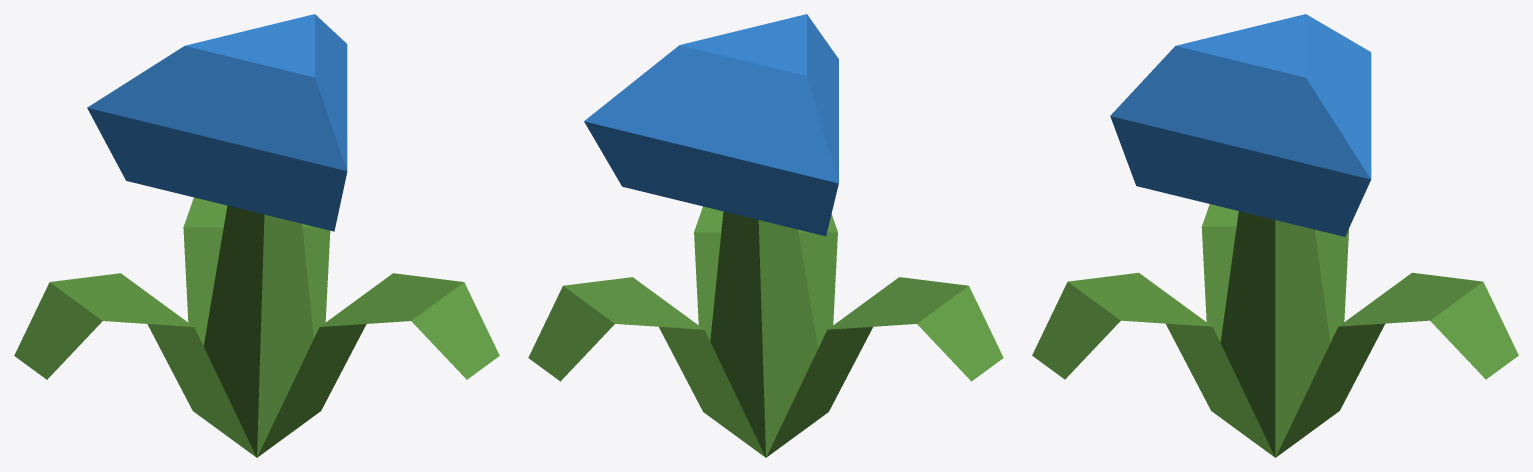
The model's file is flower-6.glb.
3 views of the same model, side by side, from view 1: azimuth 30°, elevation 25°; view 2: azimuth 150°, elevation 25°; view 3: azimuth 270°, elevation 25° (orthographic). The views are drawn at different scales.
Visible parts, largest first — view 1: flower_purpleB; view 2: flower_purpleB; view 3: flower_purpleB.
Boxes of the visible parts, x1,y1,x2,y2 form: flower_purpleB: [14, 14, 499, 457]; flower_purpleB: [528, 14, 1003, 457]; flower_purpleB: [1032, 14, 1518, 457].
Size of the model in its own units: 0.2983 by 0.3 by 0.3441.
